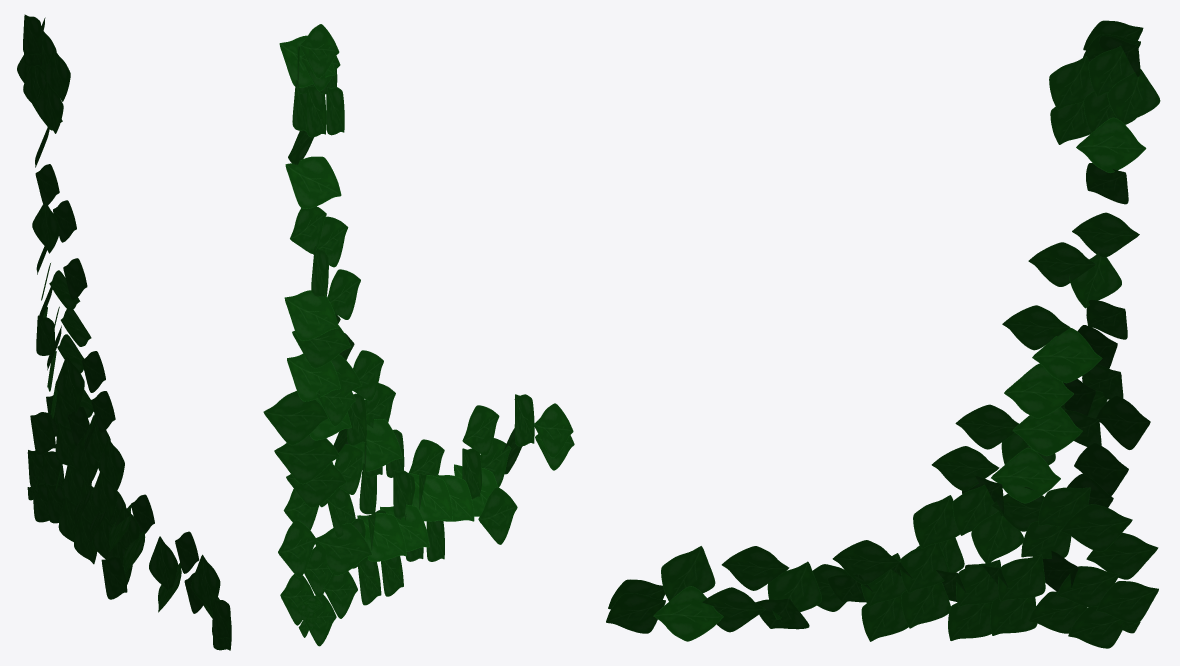
The model's file is cornner.fbx.
3 renders of one model, left to right at view 1: azimuth 30°, elevation 25°; view 2: azimuth 150°, elevation 25°; view 3: azimuth 270°, elevation 25°, orthographic. The views are drawn at different scales.
Parts seen in each view (by area): view 1: Plane.002; view 2: Plane.002; view 3: Plane.002.
Part boxes in pixels (<box>): Plane.002: <box>17,14,231,650</box>; Plane.002: <box>263,24,574,646</box>; Plane.002: <box>606,20,1160,648</box>.
Size of the model in its own units: 71.42 by 518 by 412.
